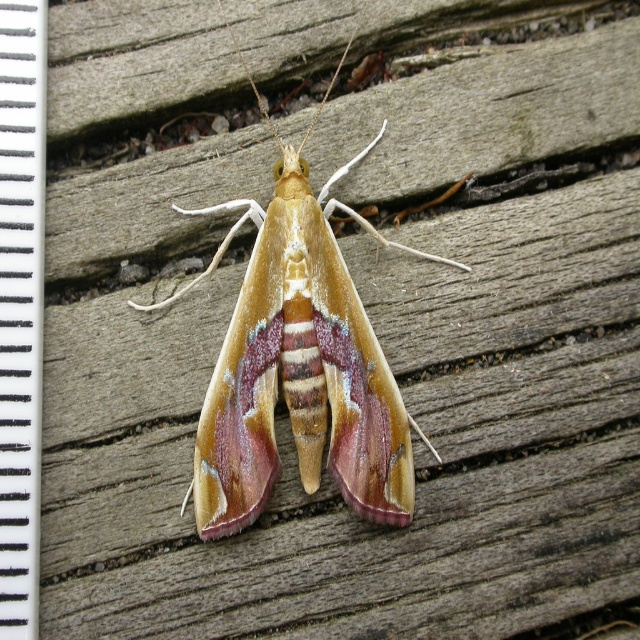Moths and butterflies: (126, 0, 474, 545)
